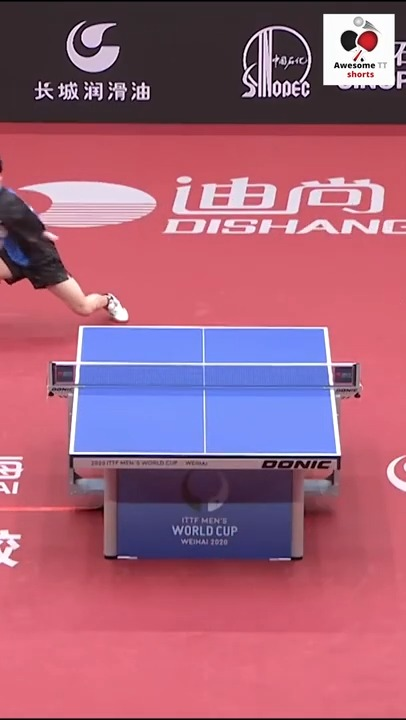Ball: (43, 231, 62, 242)
